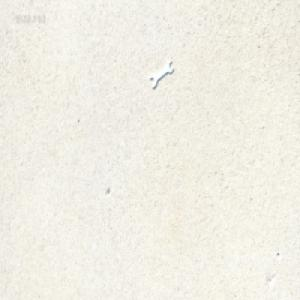Wrench: (149, 59, 173, 89)
